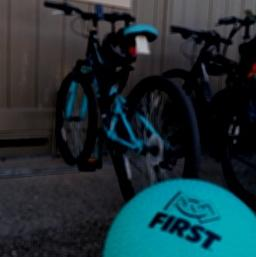algae: (100, 175, 256, 257)
